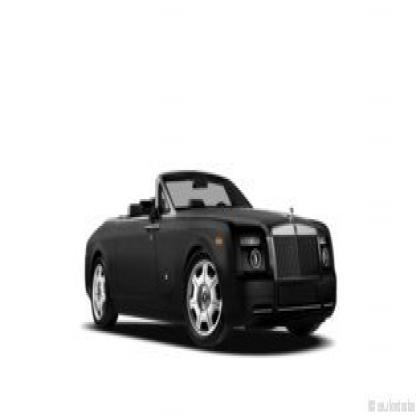Vehicle: (85, 168, 339, 353)
